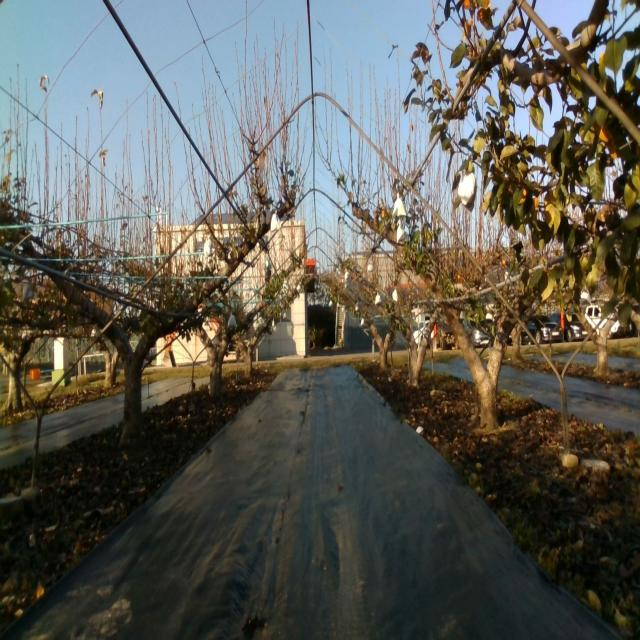pearbags: (457, 171, 476, 209), (392, 191, 407, 216), (396, 217, 408, 245), (204, 236, 215, 258), (270, 210, 281, 232)
